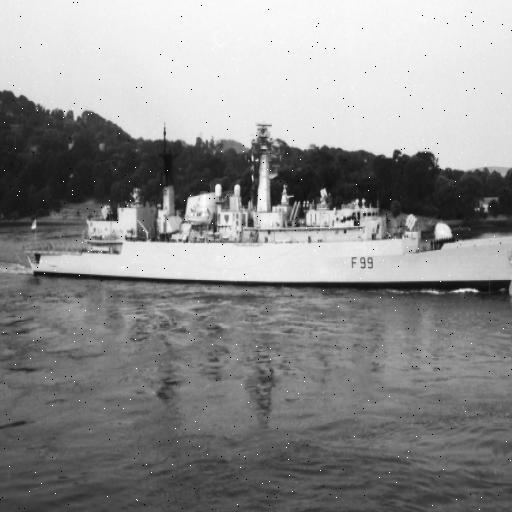Fragata: (25, 108, 512, 300)
